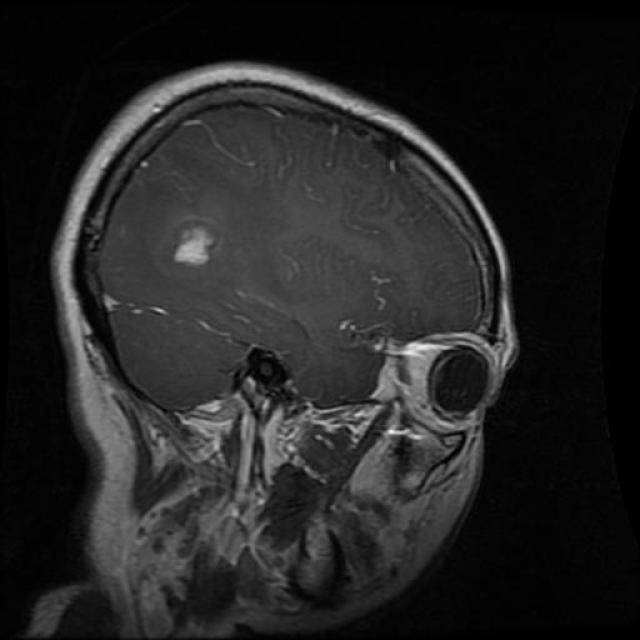glioma: (160, 215, 229, 274)
